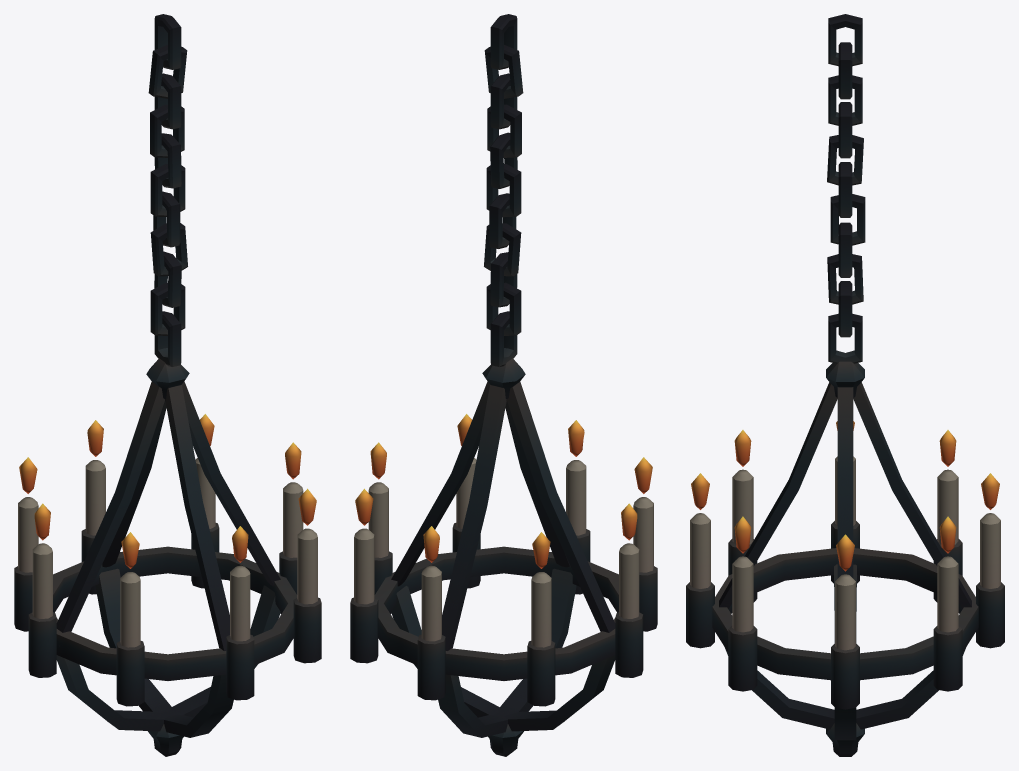
Rendered from SM_Prop_Chandelier_01.fbx.
The picture shows the model from 3 angles, left to right: view 1: azimuth 30°, elevation 25°; view 2: azimuth 150°, elevation 25°; view 3: azimuth 270°, elevation 25°; orthographic projection.
Parts seen in each view (by area): view 1: SM_Prop_Chandelier_01; view 2: SM_Prop_Chandelier_01; view 3: SM_Prop_Chandelier_01.
Boxes of the visible parts, x1=… form: SM_Prop_Chandelier_01: x1=14, y1=14, x2=321, y2=756; SM_Prop_Chandelier_01: x1=350, y1=14, x2=657, y2=756; SM_Prop_Chandelier_01: x1=686, y1=14, x2=1004, y2=756.
Size of what is drawn, in the model's own units: 155 by 397 by 155.
